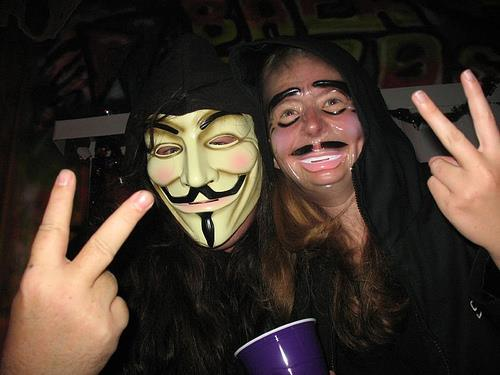V4Vendetta_mask: (145, 107, 261, 247)
